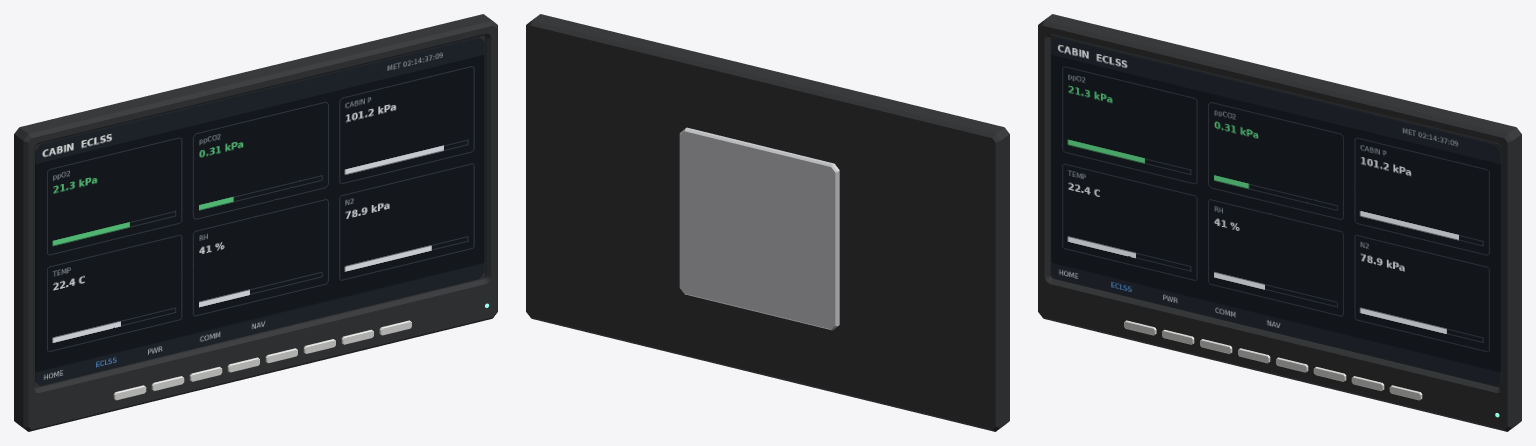
File: eqm50_touchscreen_large.glb
3 views of the same model, side by side, from view 1: azimuth 30°, elevation 25°; view 2: azimuth 150°, elevation 25°; view 3: azimuth 330°, elevation 25° (orthographic).
Visible parts, largest first — view 1: eqm50_screen, eqm50_housing, eqm50_keys; view 2: eqm50_housing; view 3: eqm50_screen, eqm50_housing, eqm50_keys.
Part boxes in pixels (x1,y1,x2,y2): eqm50_screen: (35, 37, 484, 385); eqm50_housing: (14, 14, 497, 431); eqm50_keys: (113, 303, 489, 400); eqm50_housing: (526, 14, 1009, 431); eqm50_screen: (1051, 37, 1500, 385); eqm50_housing: (1038, 14, 1521, 431); eqm50_keys: (1124, 320, 1499, 417).
Bounding box in the file's own units: 0.9 × 0.54 × 0.058.
Materials: 5 (1 with a texture image).
